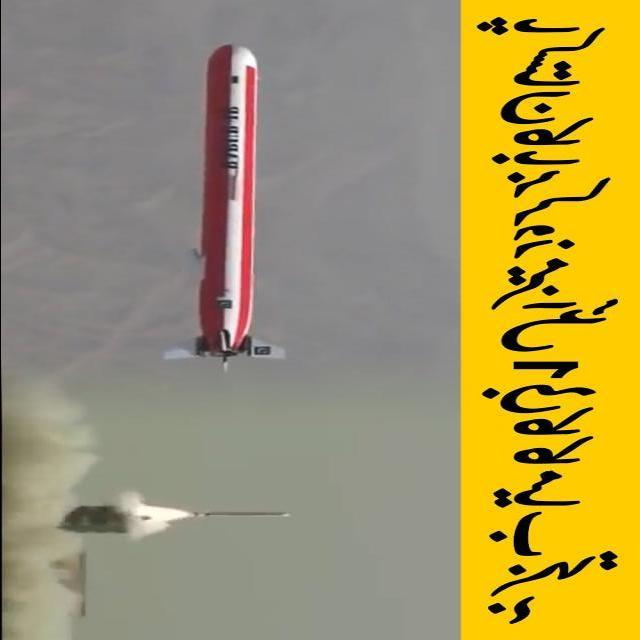Missile: (186, 42, 257, 363), (190, 509, 293, 519)
